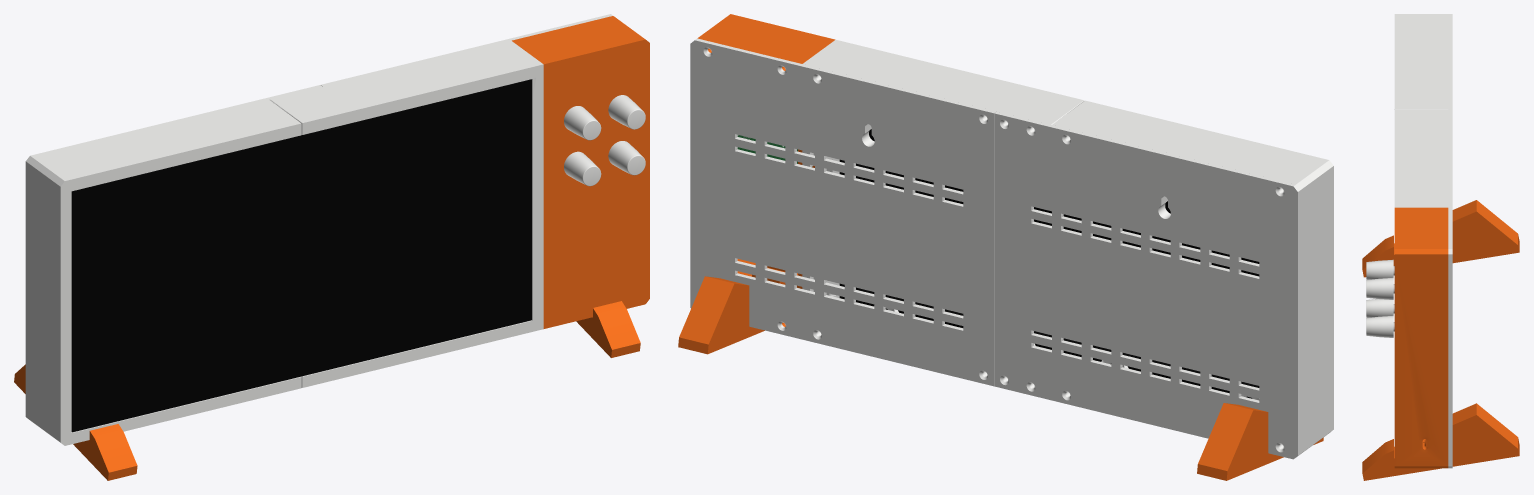
3 views of the same model, side by side, from view 1: azimuth 30°, elevation 25°; view 2: azimuth 150°, elevation 25°; view 3: azimuth 270°, elevation 25° (orthographic). The views are drawn at different scales.
Parts seen in each view (by area): view 1: l, control_section, outer_frame, inner_frame, stand_left, stand_right, rear_display_cover, c2, c3, c4, rear_control_cover, c1; view 2: rear_display_cover, rear_control_cover, outer_frame, inner_frame, stand_left, stand_right, control_section, l; view 3: control_section, inner_frame, outer_frame, stand_right, stand_left, rear_control_cover, rear_display_cover, c2, c4, c1, c3.
Boxes of the visible parts, <box> form: l: <box>71,79,531,432</box>; control_section: <box>512,16,649,328</box>; outer_frame: <box>28,100,301,445</box>; inner_frame: <box>270,40,543,387</box>; stand_left: <box>14,364,137,480</box>; stand_right: <box>576,301,640,357</box>; rear_display_cover: <box>25,85,322,420</box>; c2: <box>608,95,645,129</box>; c3: <box>564,151,601,186</box>; c4: <box>608,141,645,175</box>; rear_control_cover: <box>321,14,612,86</box>; c1: <box>564,106,601,140</box>; rear_display_cover: <box>994,111,1300,459</box>; rear_control_cover: <box>690,38,996,386</box>; outer_frame: <box>1052,100,1333,456</box>; inner_frame: <box>802,40,1084,387</box>; stand_left: <box>1197,403,1323,480</box>; stand_right: <box>678,276,764,354</box>; control_section: <box>697,14,835,326</box>; l: <box>839,129,1259,398</box>; control_section: <box>1394,207,1448,468</box>; inner_frame: <box>1394,110,1448,207</box>; outer_frame: <box>1394,14,1448,109</box>; stand_right: <box>1362,403,1519,480</box>; stand_left: <box>1362,200,1519,277</box>; rear_control_cover: <box>1448,131,1452,468</box>; rear_display_cover: <box>1448,14,1452,131</box>; c2: <box>1366,277,1393,299</box>; c4: <box>1366,315,1393,337</box>; c1: <box>1366,259,1393,279</box>; c3: <box>1366,299,1393,317</box>.
Bounding box in the file's own units: 41.03 × 19.43 × 11.43.
